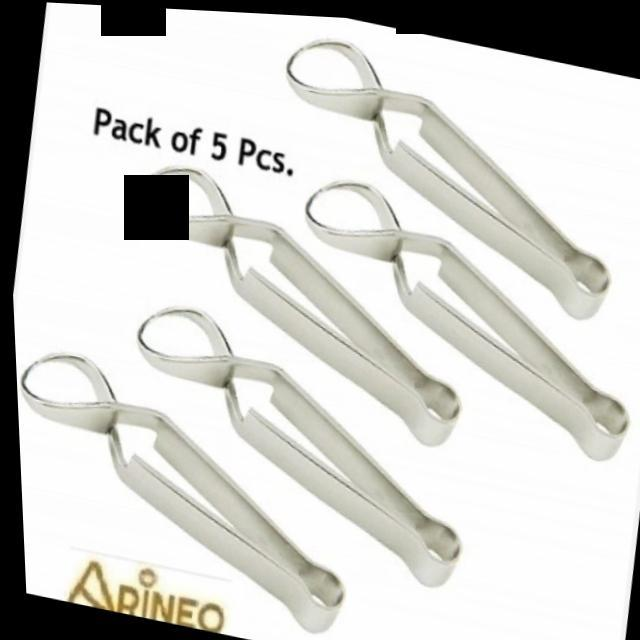Doyen Cross Action Towel Clamp: (248, 10, 640, 321), (92, 286, 490, 588), (104, 150, 492, 452), (270, 158, 640, 464), (12, 336, 370, 639)
